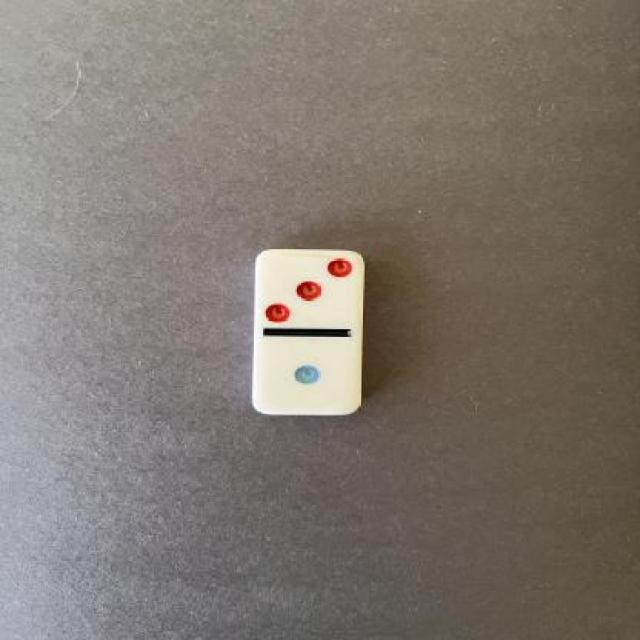domino: (249, 244, 366, 418)
